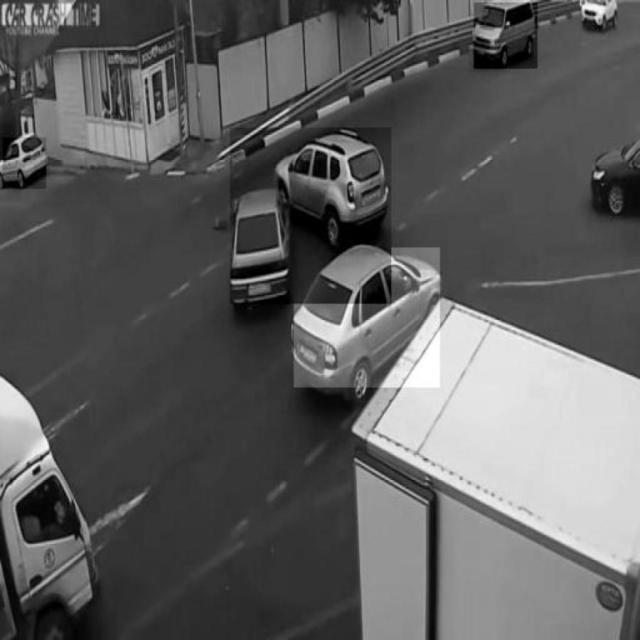accident: (231, 128, 391, 304)
vehicle: (294, 247, 440, 387), (474, 3, 538, 69), (2, 138, 46, 189)
